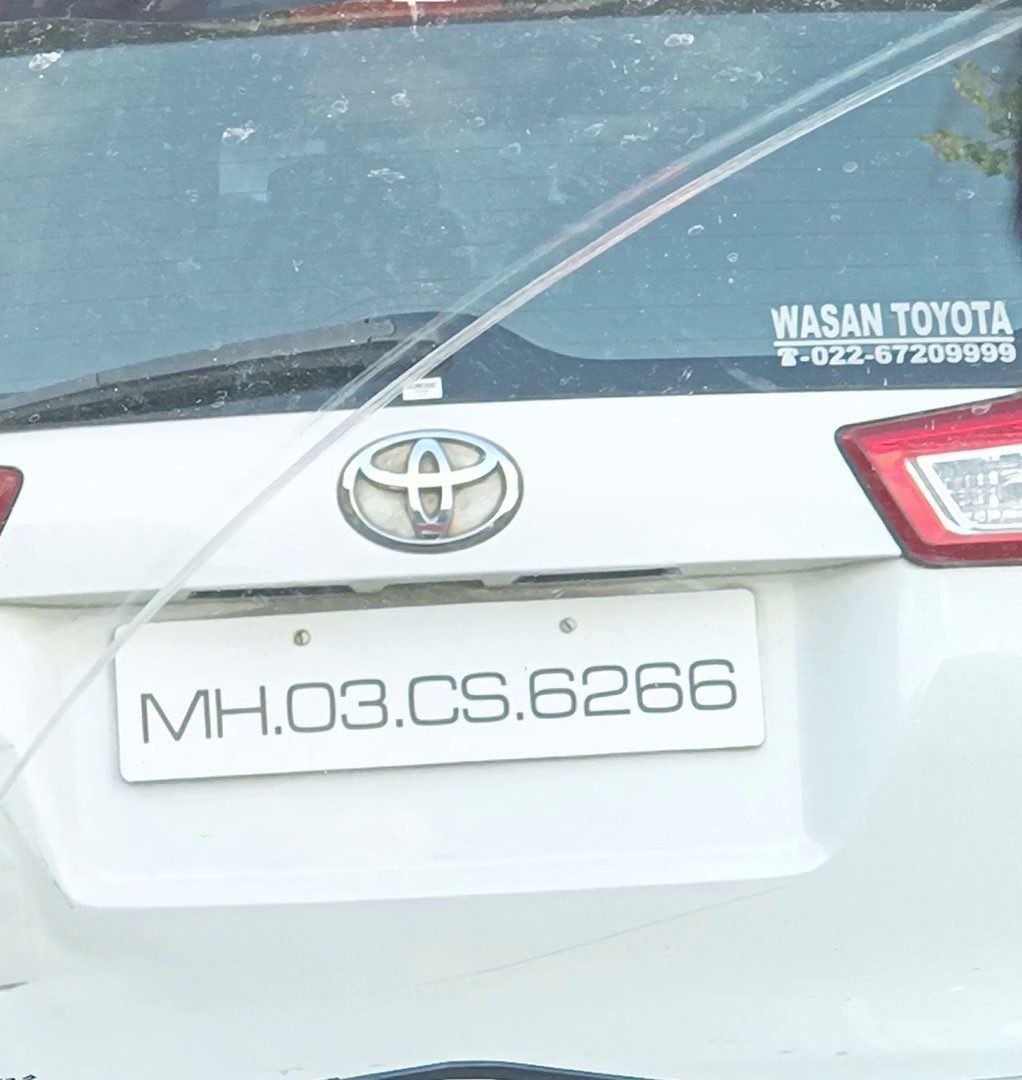MH03CS6266: (115, 581, 766, 785)
